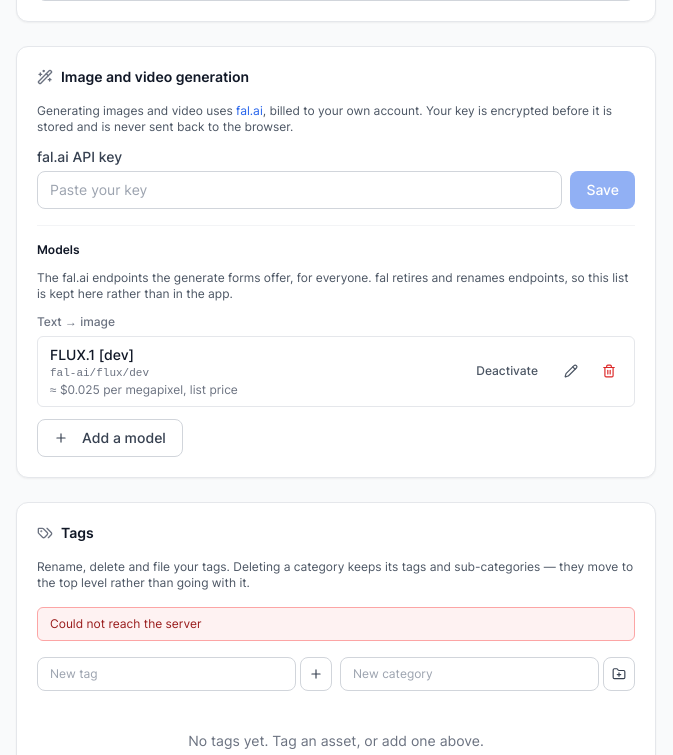
it: SettingsView generation (M8) › lets an admin deactivate and delete a model
(page scrolled)
Click the button with aria-label "Deactivate FLUX.1 [dev]": {"x": 507, "y": 371} [468,359,546,383]
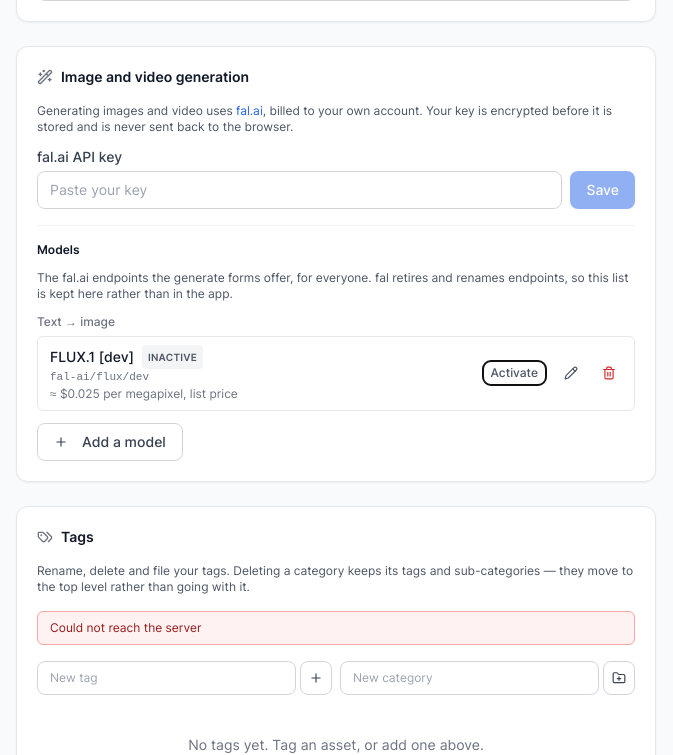
Result: the text "Inactive" is shown at [142,345,203,369]
Click the button named "Delete FLUX.1 [dev]": {"x": 609, "y": 373} [596,360,622,386]
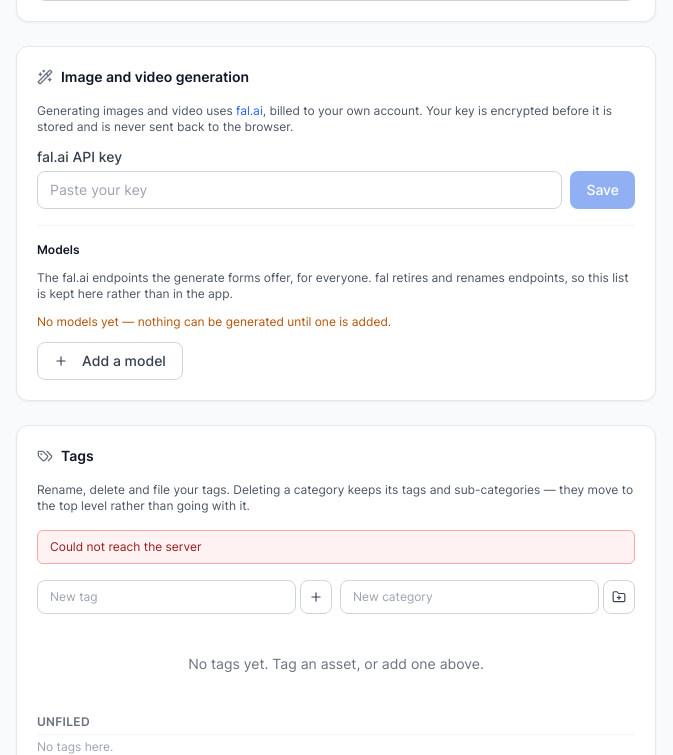
Result: the text "FLUX.1 [dev]" is gone
